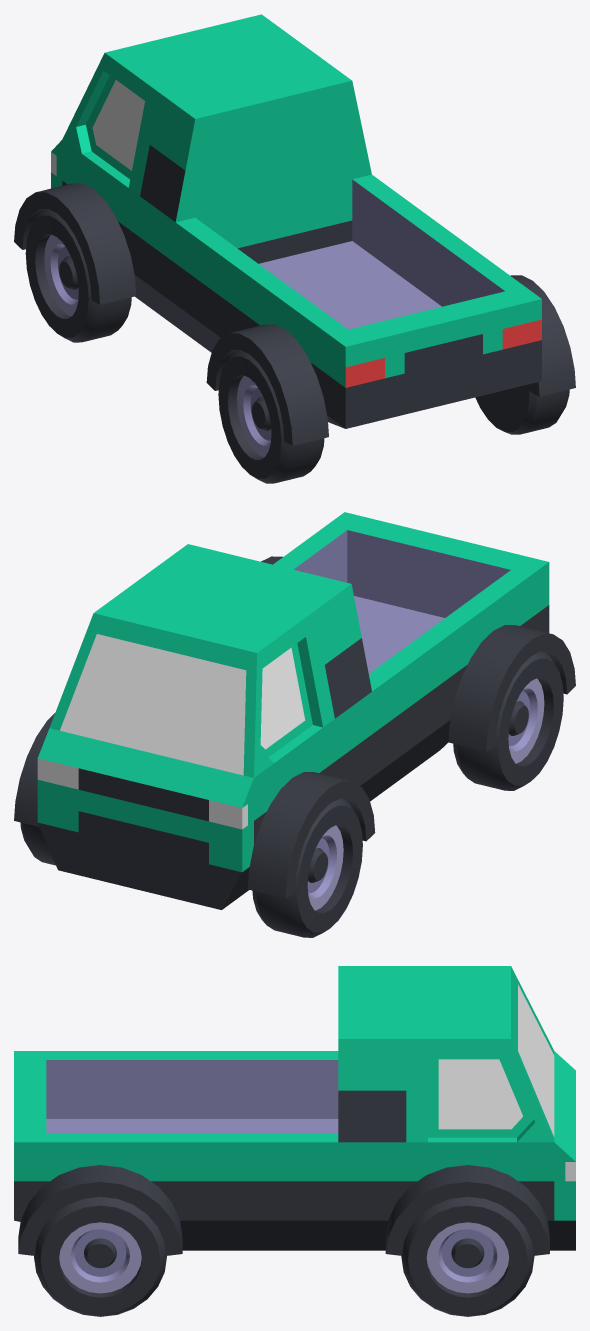
Rendered from Truck.glb.
3 renders of one model, top to bottom at view 1: azimuth 30°, elevation 25°; view 2: azimuth 150°, elevation 25°; view 3: azimuth 270°, elevation 25°, orthographic. The views are drawn at different scales.
Parts seen in each view (by area): view 1: mergedBlocks(Clone); view 2: mergedBlocks(Clone); view 3: mergedBlocks(Clone).
Boxes of the visible parts, left/top/right/bottom form: mergedBlocks(Clone): left=14, top=14, right=575, bottom=483; mergedBlocks(Clone): left=14, top=512, right=575, bottom=937; mergedBlocks(Clone): left=14, top=966, right=575, bottom=1316.
Bounding box in the file's own units: 1.42 × 1.29 × 2.6.
